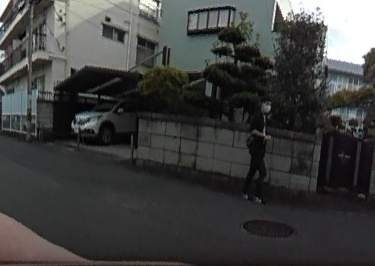person: (245, 97, 274, 198)
